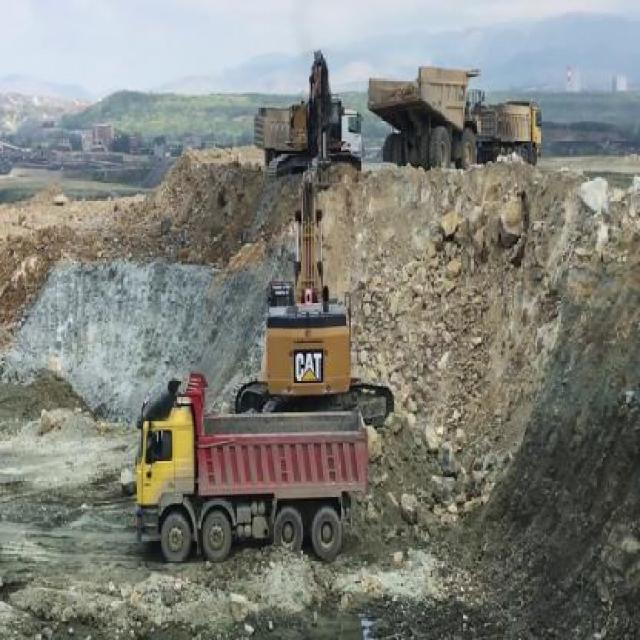Dump Truck: (127, 378, 373, 554), (366, 66, 480, 177), (484, 96, 542, 162)
Excavator: (236, 171, 392, 424), (266, 47, 349, 191)
